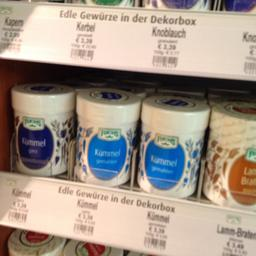spices: (136, 94, 208, 196), (74, 86, 140, 186), (9, 82, 73, 172), (204, 100, 254, 206)
